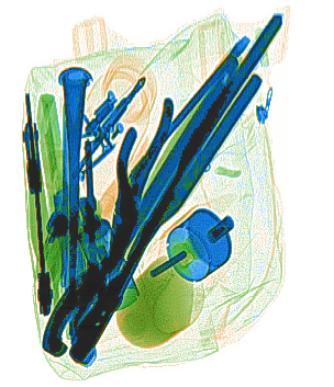knife: (49, 183, 99, 368)
